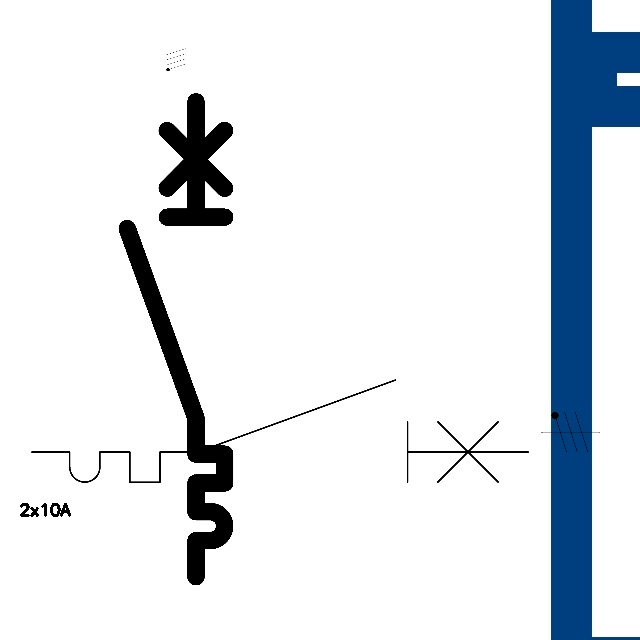interruptor_termomagnetico: (19, 367, 541, 495), (115, 89, 237, 589)
